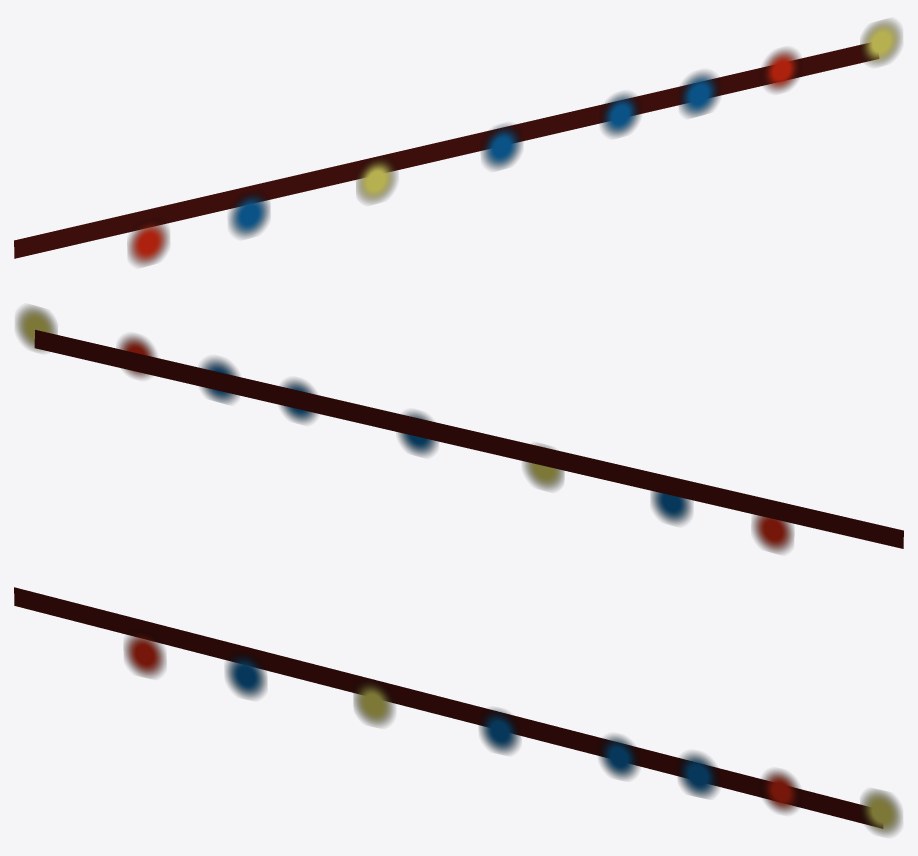
The model's file is Lights01.glb.
The picture shows the model from 3 angles, top to bottom: view 1: azimuth 30°, elevation 25°; view 2: azimuth 150°, elevation 25°; view 3: azimuth 330°, elevation 25°; orthographic projection.
Parts seen in each view (by area): view 1: Lights01; view 2: Lights01; view 3: Lights01.
Part boxes in pixels (x1,y1,x2,y2): Lights01: [14, 19, 902, 266]; Lights01: [15, 305, 903, 554]; Lights01: [14, 587, 902, 836].
Size of the model in its own units: 2.97 by 0.2186 by 0.0124.
Materials: 1 (1 with a texture image).
